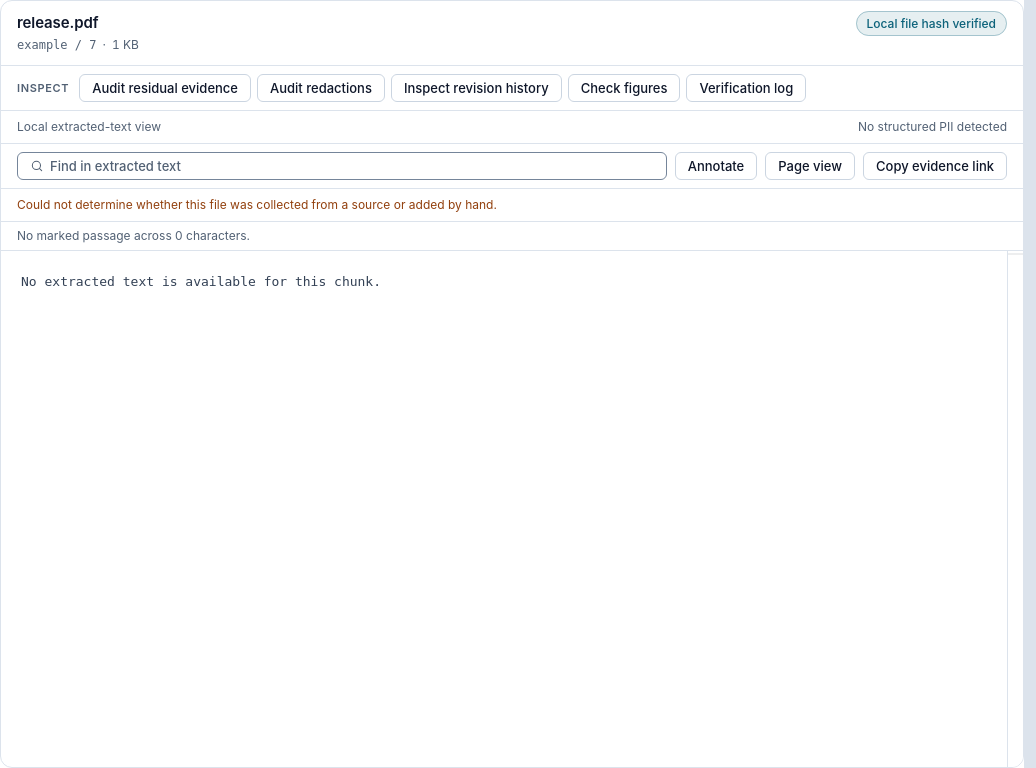
Test: provenance verification log › names a row with no recorded level by why it has none, never as an unrecognized rung
The width and height of the screenshot is (1036, 768).
Click the button "Verification log" at (746, 88), box 686,74 -> 806,102
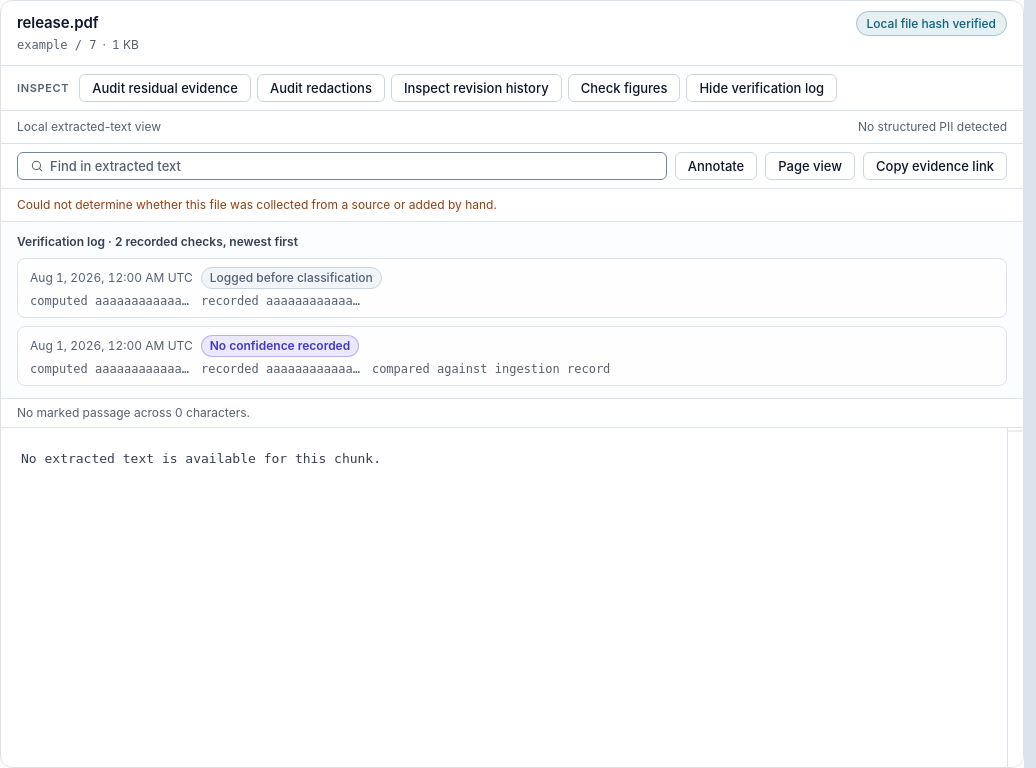
Expected: the text "Logged before classification" is shown once, 201,267 -> 382,289
Expected: the text "No confidence recorded" is shown once, 201,335 -> 359,357
